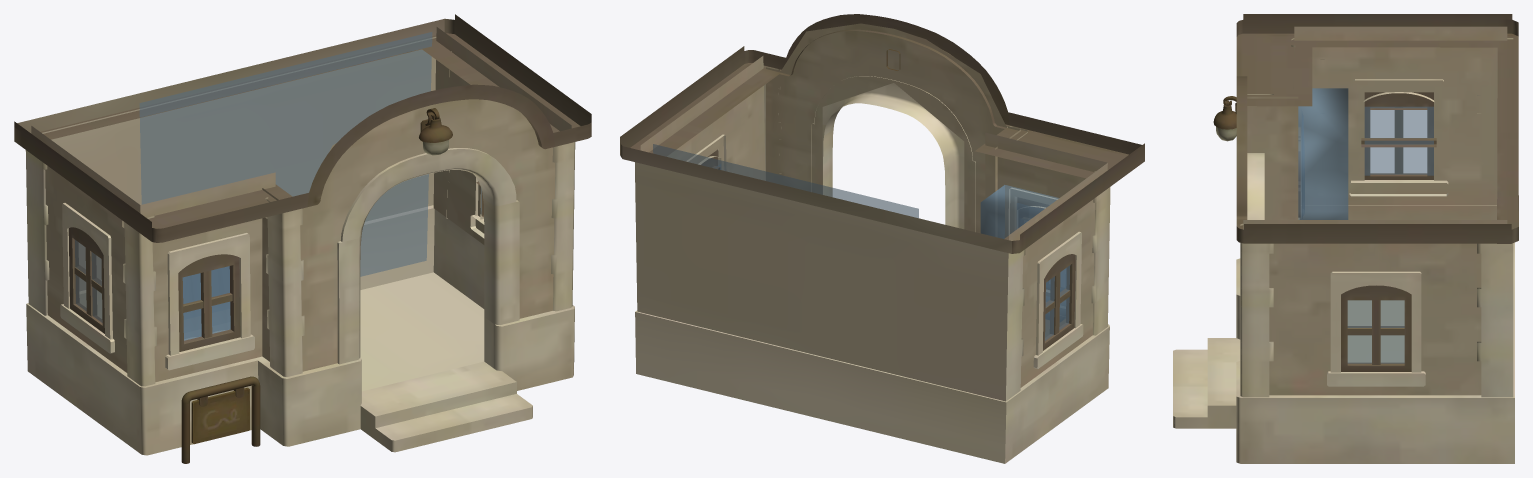
The model's file is wall-nb-stone.glb.
3 views of the same model, side by side, from view 1: azimuth 30°, elevation 25°; view 2: azimuth 150°, elevation 25°; view 3: azimuth 270°, elevation 25° (orthographic). The views are drawn at different scales.
Size of the model in its own units: 39.24 by 27.32 by 27.3.
Materials: 7 (3 with a texture image).
